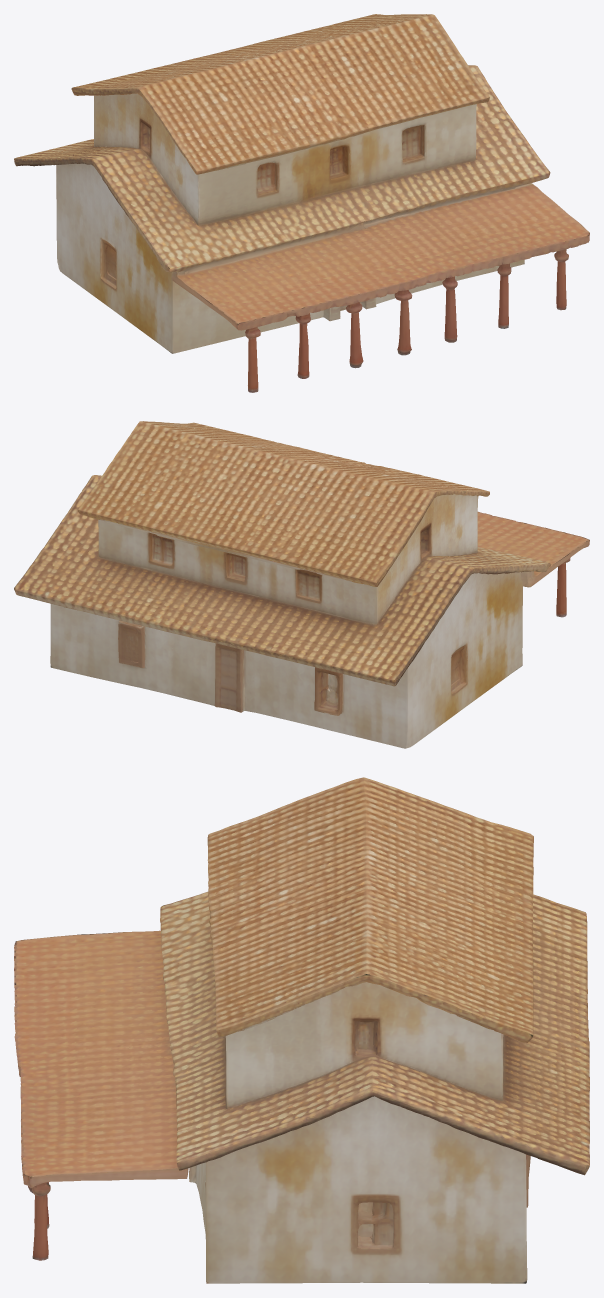
File: house6.glb
The picture shows the model from 3 angles, top to bottom: view 1: azimuth 30°, elevation 25°; view 2: azimuth 150°, elevation 25°; view 3: azimuth 270°, elevation 25°; orthographic projection. The views are drawn at different scales.
Visible parts, largest first — view 1: world_0; view 2: world_0; view 3: world_0.
Part boxes in pixels (bbox=[...]): world_0: bbox=[14, 14, 589, 392]; world_0: bbox=[14, 421, 589, 748]; world_0: bbox=[14, 777, 589, 1283].
Size of the model in its own units: 0.9973 by 0.528 by 0.9488.
Materials: 1 (1 with a texture image).
